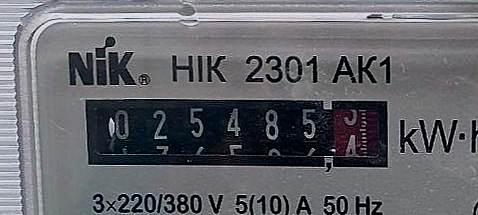0: (111, 106, 132, 141)
2: (150, 106, 170, 142)
4: (223, 104, 244, 138), (342, 131, 361, 160)
5: (298, 105, 319, 142), (186, 104, 206, 139)
8: (262, 105, 282, 143)
screen: (75, 90, 397, 179)
